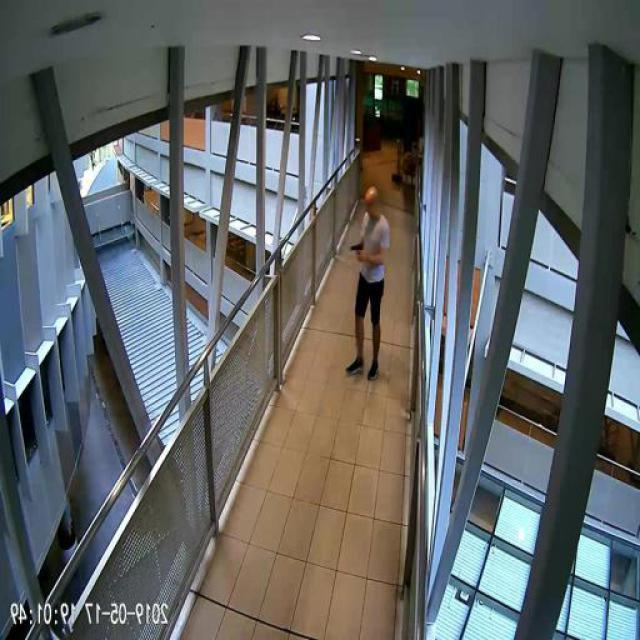weapon: (350, 244, 364, 262)
